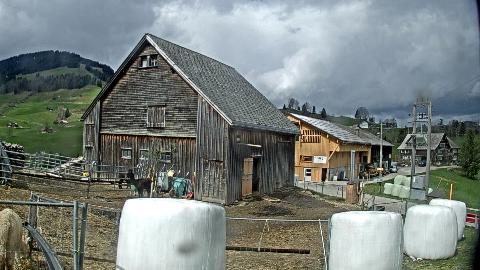car: (389, 166, 397, 172), (418, 162, 426, 166)
sheep: (0, 208, 30, 270), (126, 169, 154, 199), (118, 169, 134, 189)
